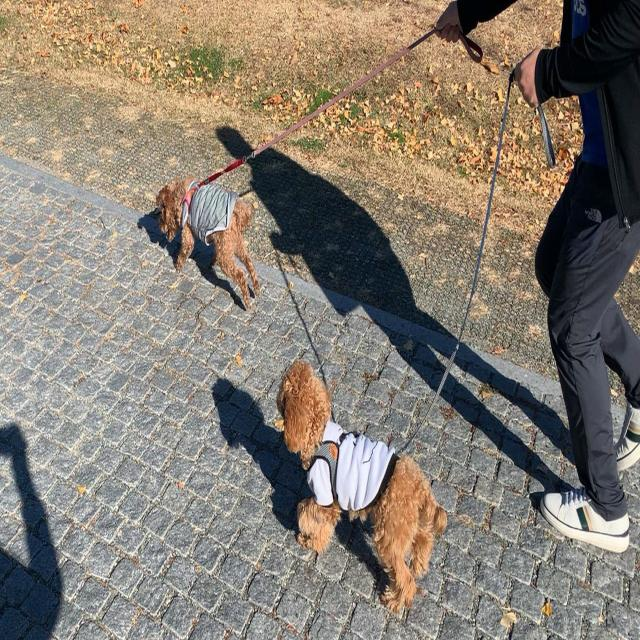Leashed_Dog: (272, 39, 600, 621), (158, 0, 588, 311)
